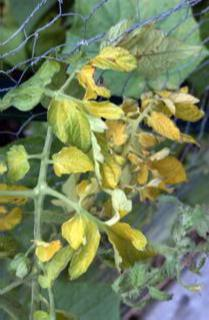Tomato leaf yellow virus: (70, 0, 206, 89), (8, 43, 62, 114), (45, 93, 92, 162), (59, 207, 99, 251)
